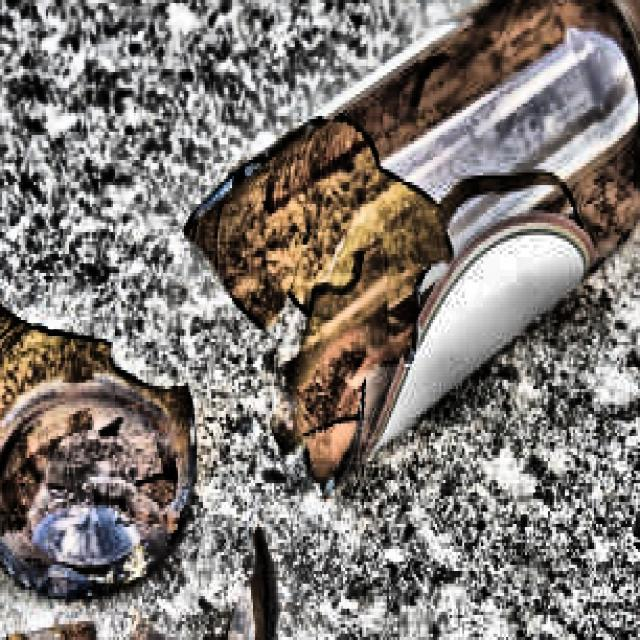glass: (184, 0, 640, 498)
